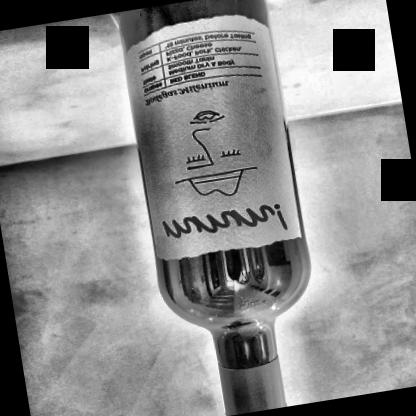umm: (121, 8, 306, 266)
